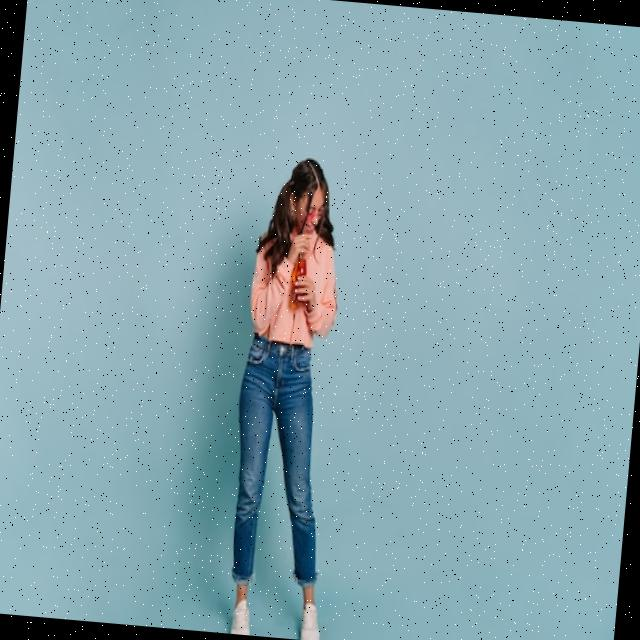Person: (219, 153, 361, 640)
